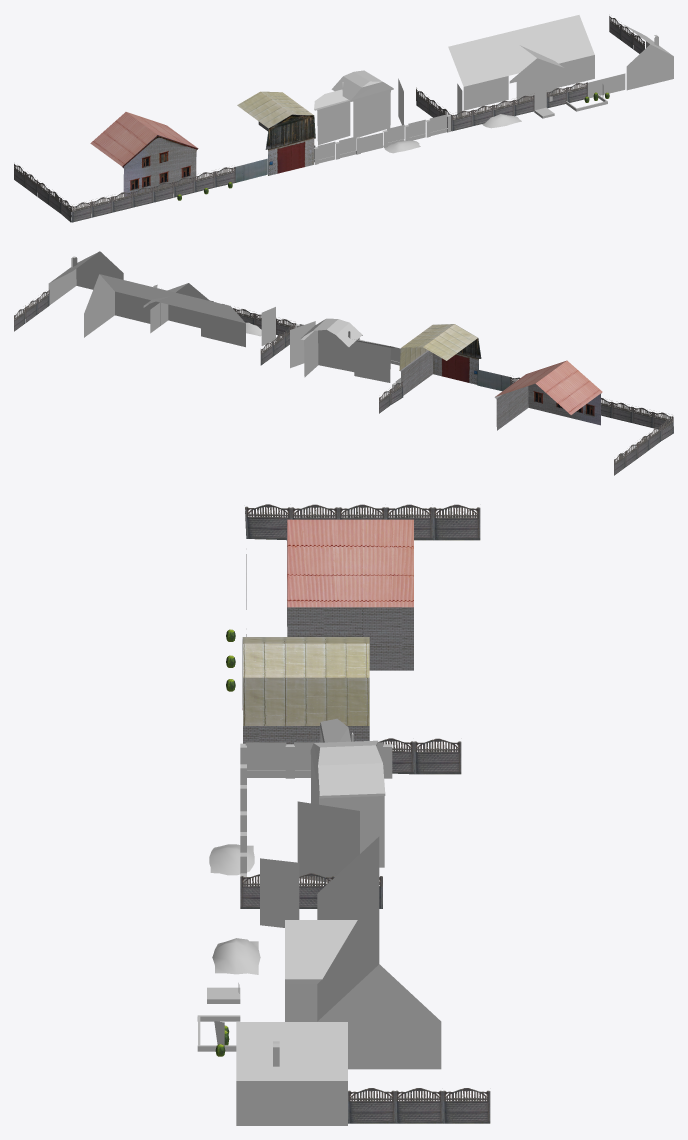
Rendered from houses.FBX.
3 renders of one model, top to bottom at view 1: azimuth 30°, elevation 25°; view 2: azimuth 150°, elevation 25°; view 3: azimuth 270°, elevation 25°, orthographic. The views are drawn at different scales.
Visible parts, largest first — view 1: house3, house2, house4, house4_t; view 2: house2, house3, house4, house4_t, house3_t; view 3: house3, house2, house4, house4_t, house3_t.
Part boxes in pixels (bbox=[...]): house3: bbox=[416, 15, 673, 131]; house2: bbox=[14, 91, 609, 222]; house4: bbox=[314, 70, 451, 164]; house4_t: bbox=[314, 78, 446, 159]; house2: bbox=[379, 324, 673, 475]; house3: bbox=[14, 251, 296, 365]; house4: bbox=[295, 318, 399, 390]; house4_t: bbox=[290, 321, 400, 386]; house3_t: bbox=[153, 284, 275, 345]; house3: bbox=[197, 836, 490, 1125]; house2: bbox=[215, 504, 480, 1056]; house4: bbox=[209, 718, 392, 885]; house4_t: bbox=[245, 742, 383, 882]; house3_t: bbox=[214, 858, 299, 1046].
Size of the model in its own units: 9243 by 863 by 1951.
